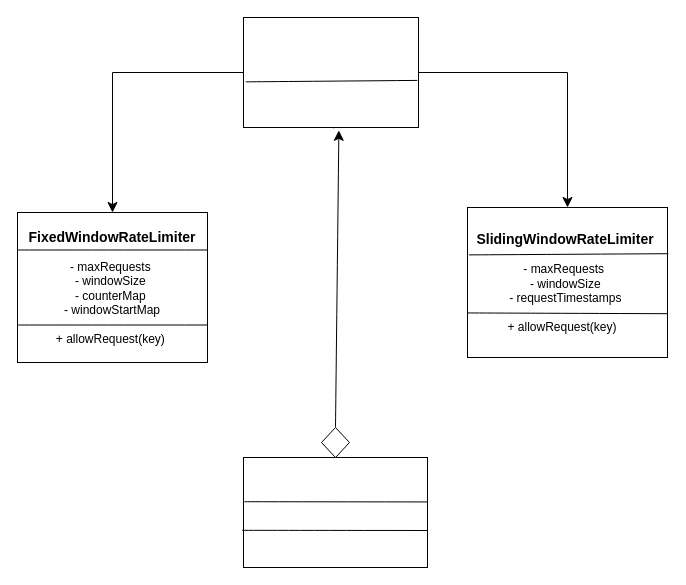
Some shapes in this 686 by 585 pixel diagram are drawn without their labels. Each missing label, with the box of its shape:
<<interface>> RateLimiter + allowRequest(key): (242, 16, 418, 128)
RateLimiterService - rateLimiter + allow(key): (242, 456, 428, 568)
